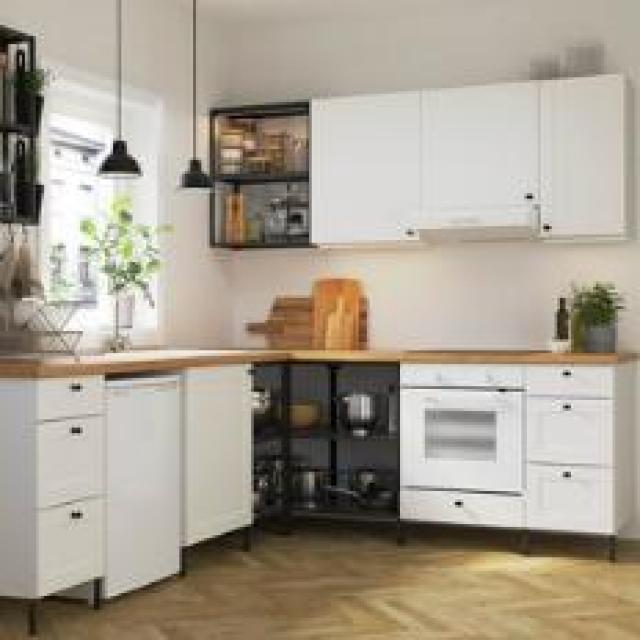dishwasher: (100, 364, 180, 602)
